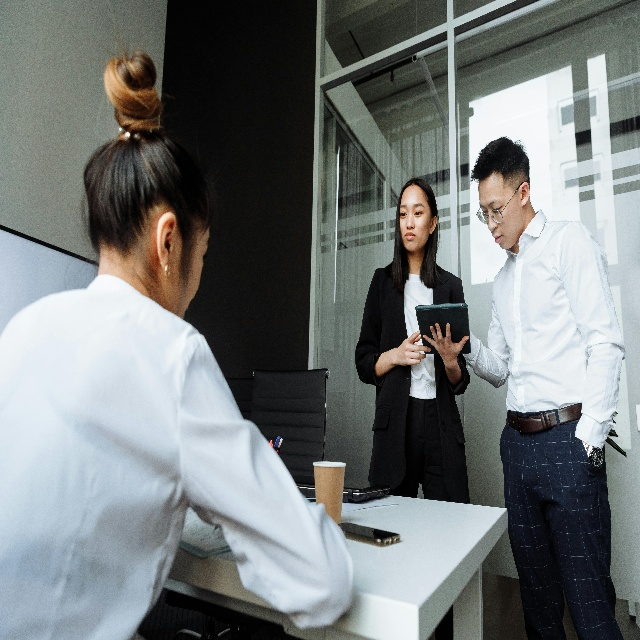Gafas: (476, 179, 530, 225)
Sin_guantes: (422, 320, 469, 369), (398, 329, 432, 364)
